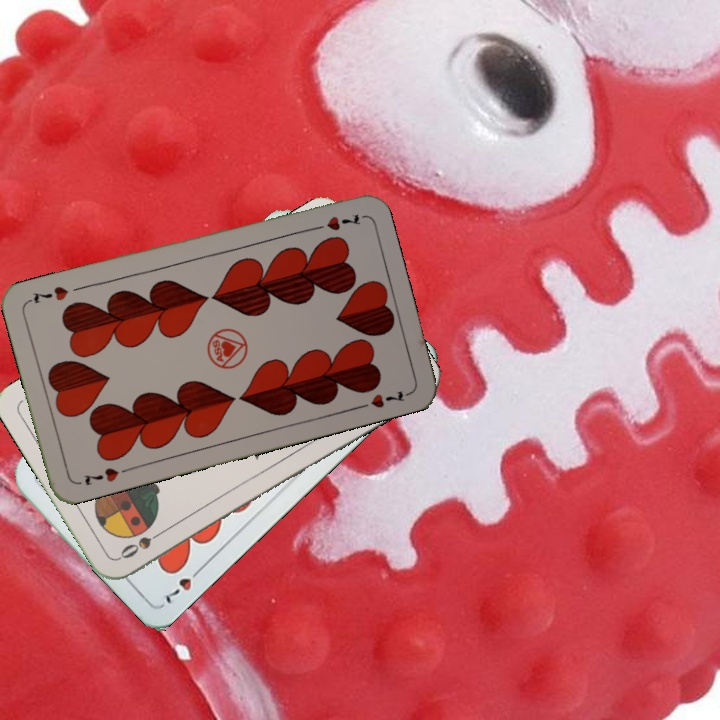H7: (161, 562, 206, 607), (306, 209, 363, 234), (79, 463, 133, 488)
SO: (115, 525, 168, 562)
